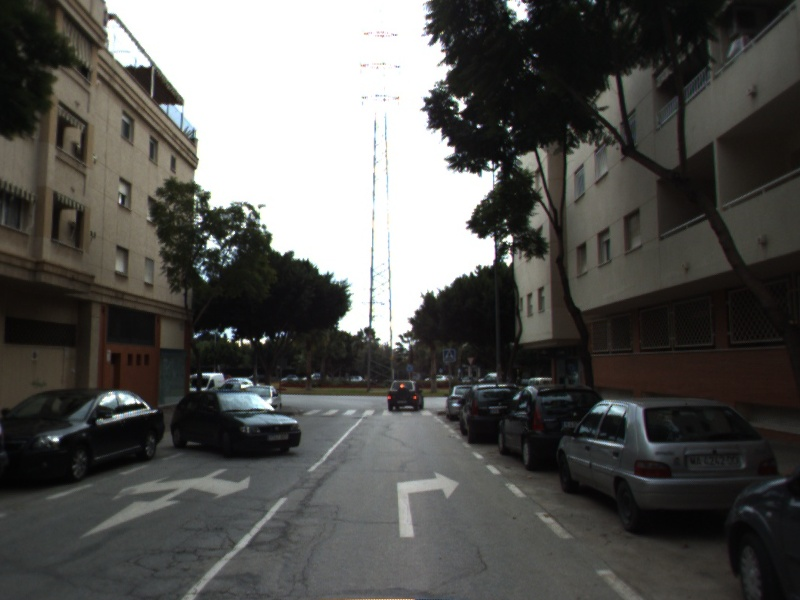RIGHT: (395, 469, 461, 539)
